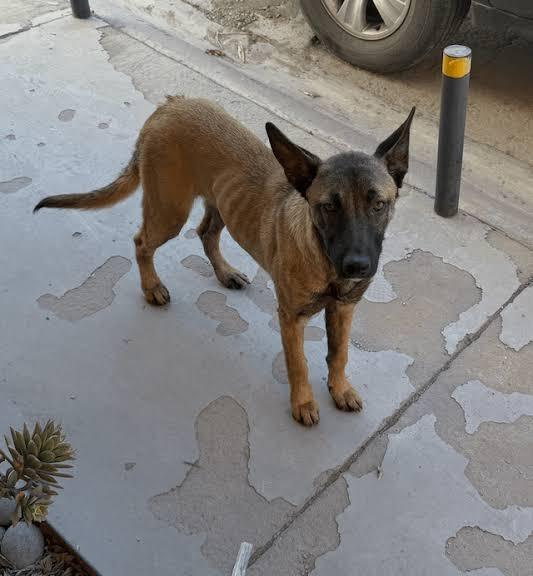adult_dog: (35, 88, 416, 428)
